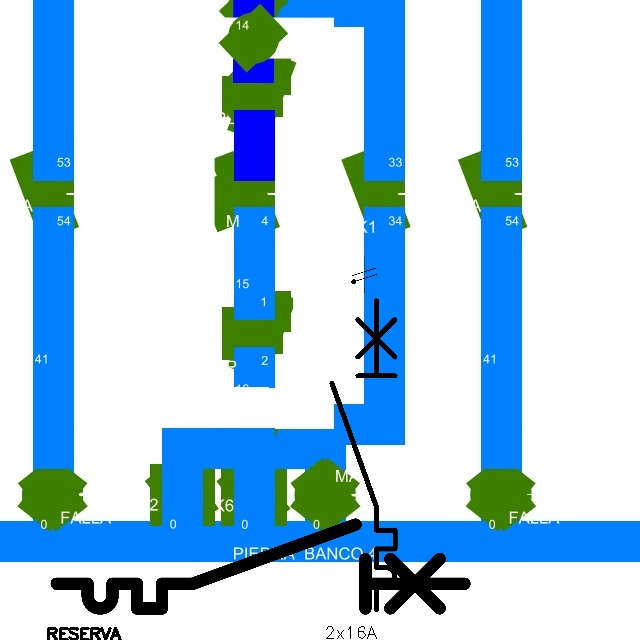interruptor_termomagnetico: (46, 514, 475, 619), (324, 292, 403, 617)
